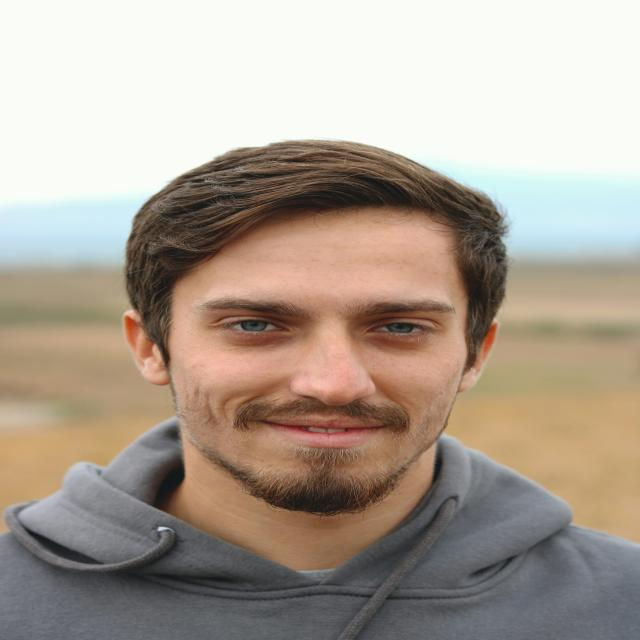human: (9, 142, 640, 640)
